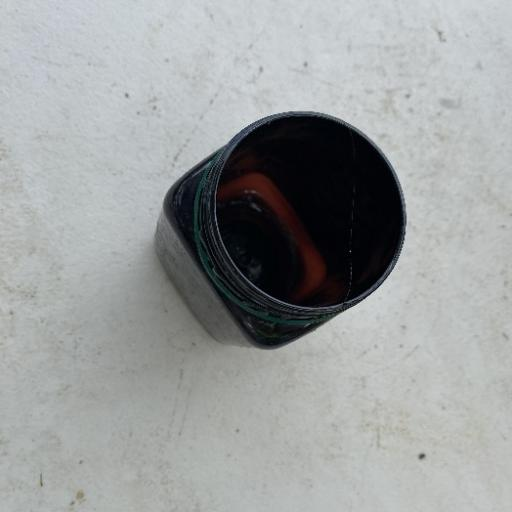Plastic: (150, 106, 410, 352)
